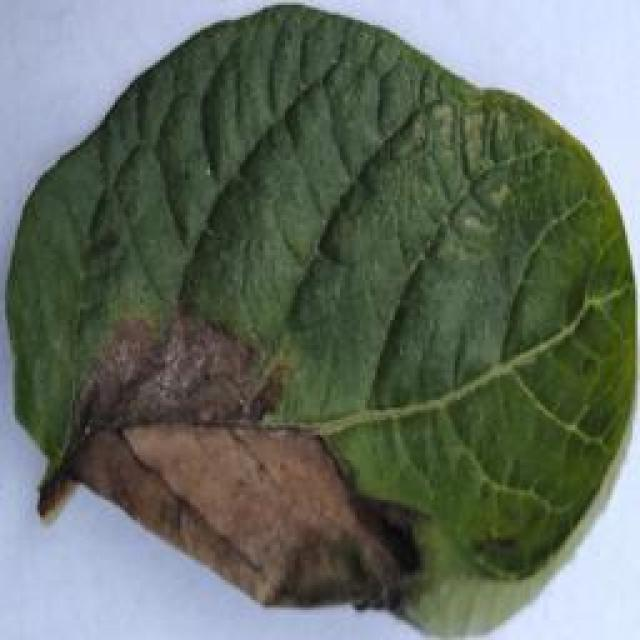Potato_Late_Blight: (2, 6, 629, 623)
